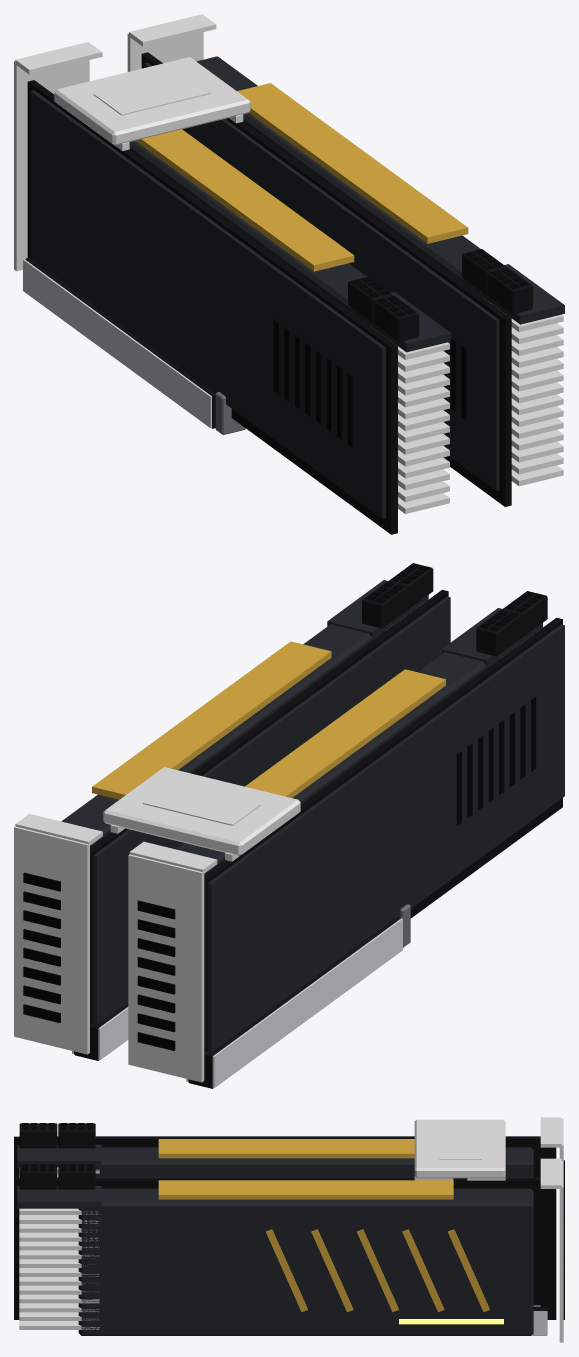
Rendered from hwm_gpu_h100_pcie.glb.
The picture shows the model from 3 angles, top to bottom: view 1: azimuth 30°, elevation 25°; view 2: azimuth 150°, elevation 25°; view 3: azimuth 270°, elevation 25°; orthographic projection. The views are drawn at different scales.
Visible parts, largest first — view 1: Card_0, Card_1, Bridge, Slot_0; view 2: Card_0, Card_1, Bridge, Slot_0, Slot_1; view 3: Card_1, Card_0, Bridge, Slot_1.
Boxes of the visible parts, x1,y1,x2,y2 form: Card_0: [14, 42, 451, 534]; Card_1: [127, 14, 564, 506]; Bridge: [54, 57, 250, 145]; Slot_0: [23, 257, 245, 434]; Card_0: [128, 591, 564, 1082]; Card_1: [14, 563, 450, 1054]; Bridge: [103, 767, 300, 856]; Slot_0: [186, 904, 410, 1088]; Slot_1: [72, 1002, 128, 1060]; Card_1: [14, 1158, 564, 1342]; Card_0: [14, 1117, 564, 1201]; Bridge: [414, 1119, 505, 1178]; Slot_1: [531, 1306, 547, 1335].
Bounding box in the file's own units: 0.093 × 0.1076 × 0.3149.
